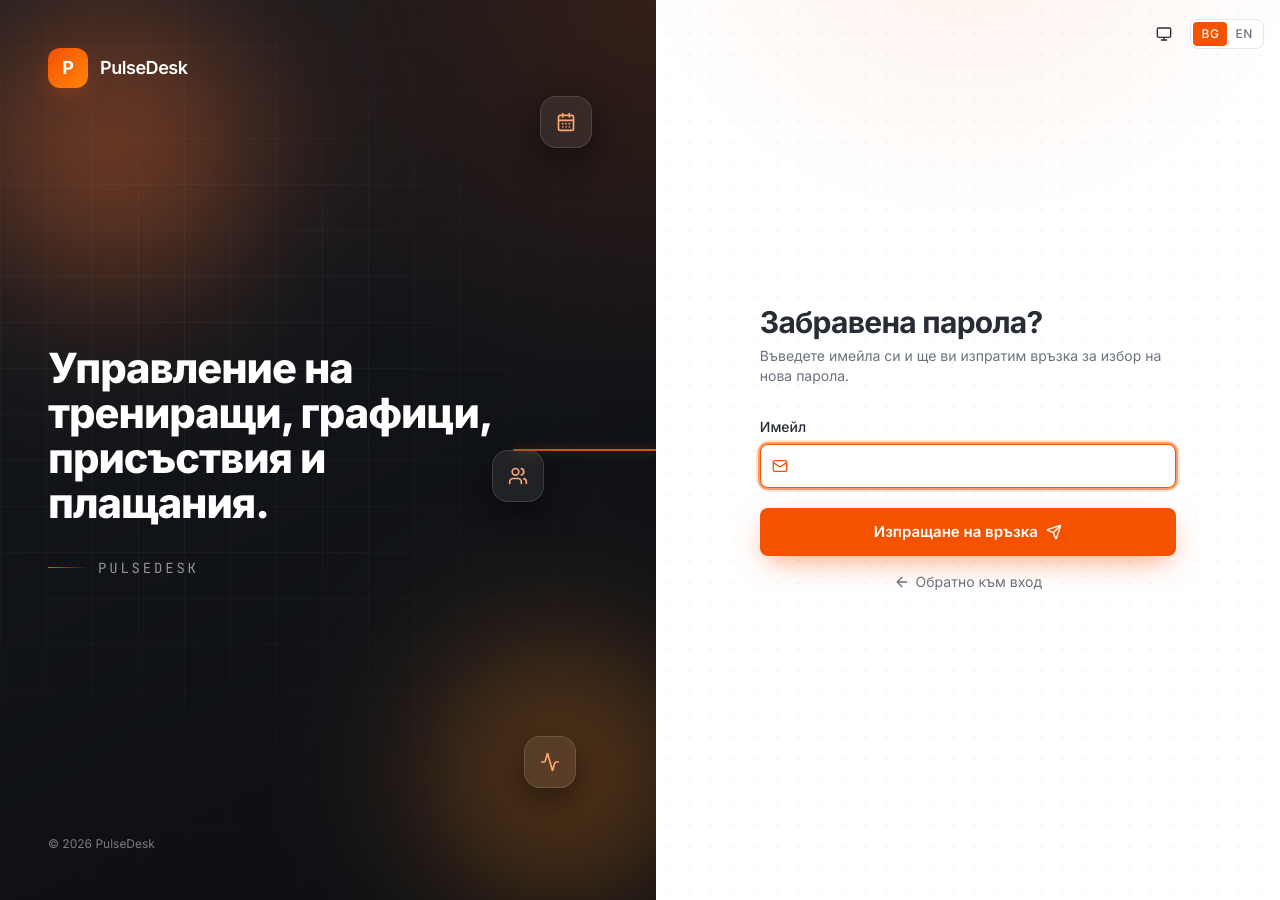
Test: ForgotPasswordPage › blocks submission when the email is invalid
The width and height of the screenshot is (1280, 900).
Step 1. Type "not-an-email" into the field labelled "Имейл" → (968, 466), box [760, 444, 1176, 488]
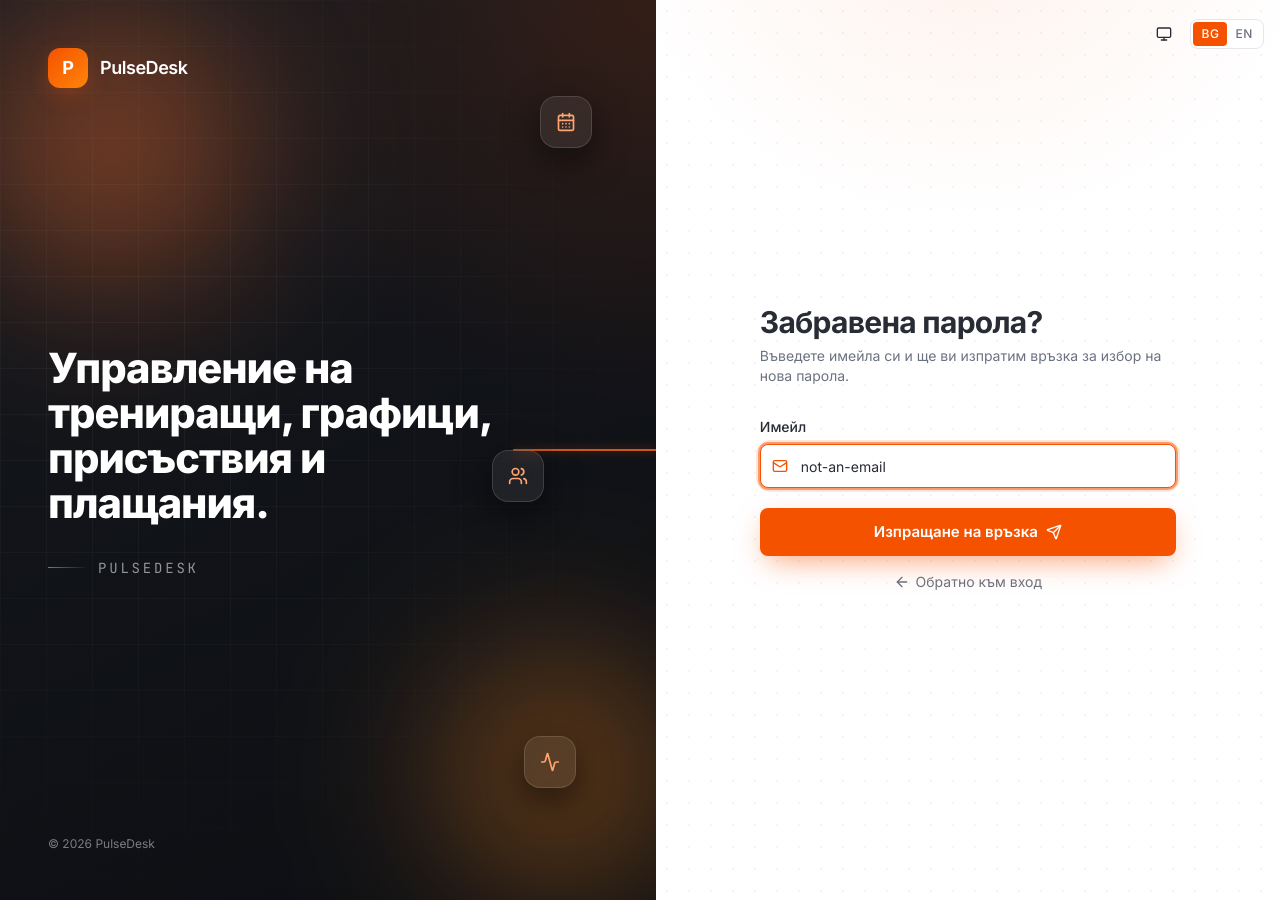
Step 2. Click the button "Изпращане на връзка" → (968, 532), box [760, 508, 1176, 556]
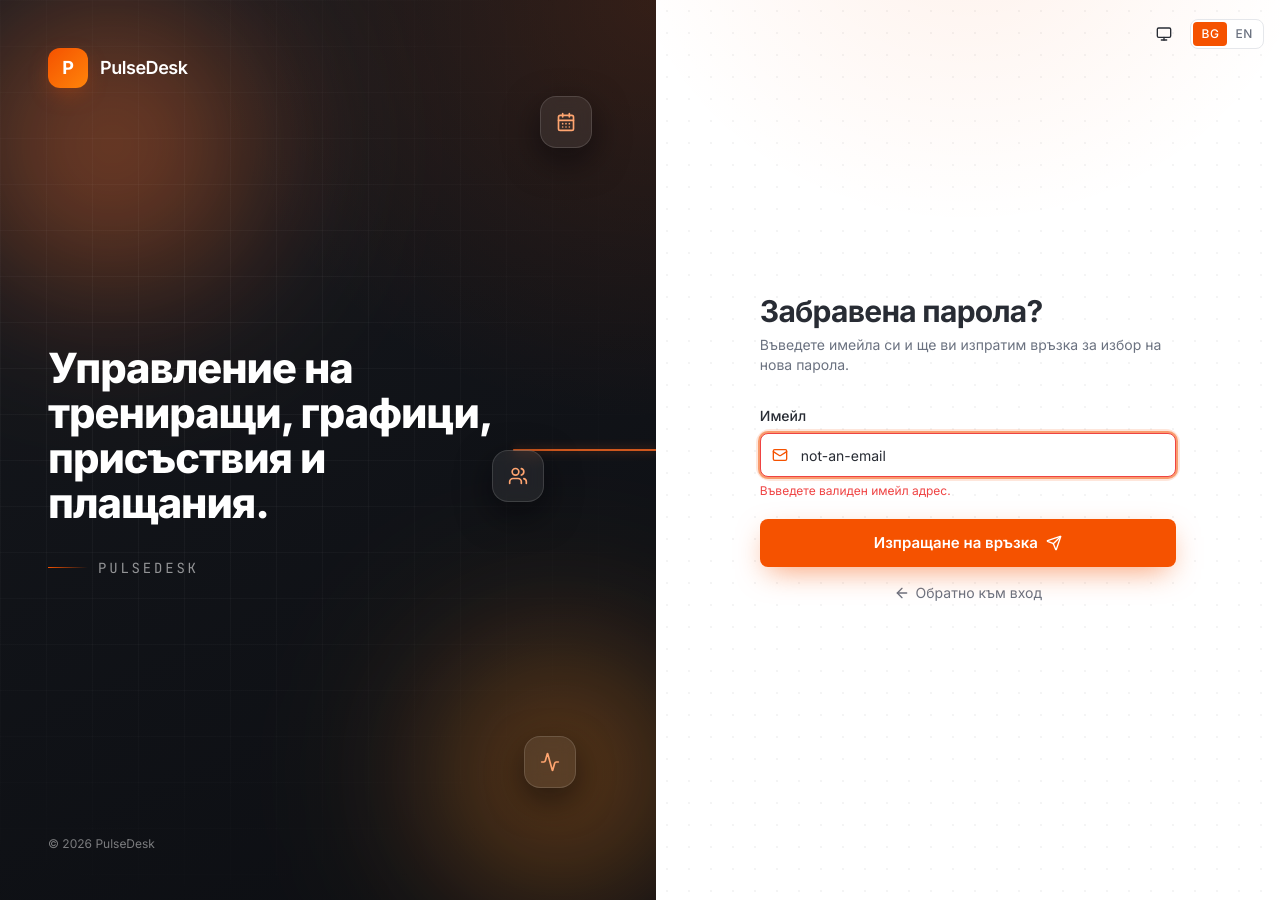
Expected: the text "Въведете валиден имейл адрес." is shown, [760, 483, 951, 498]
